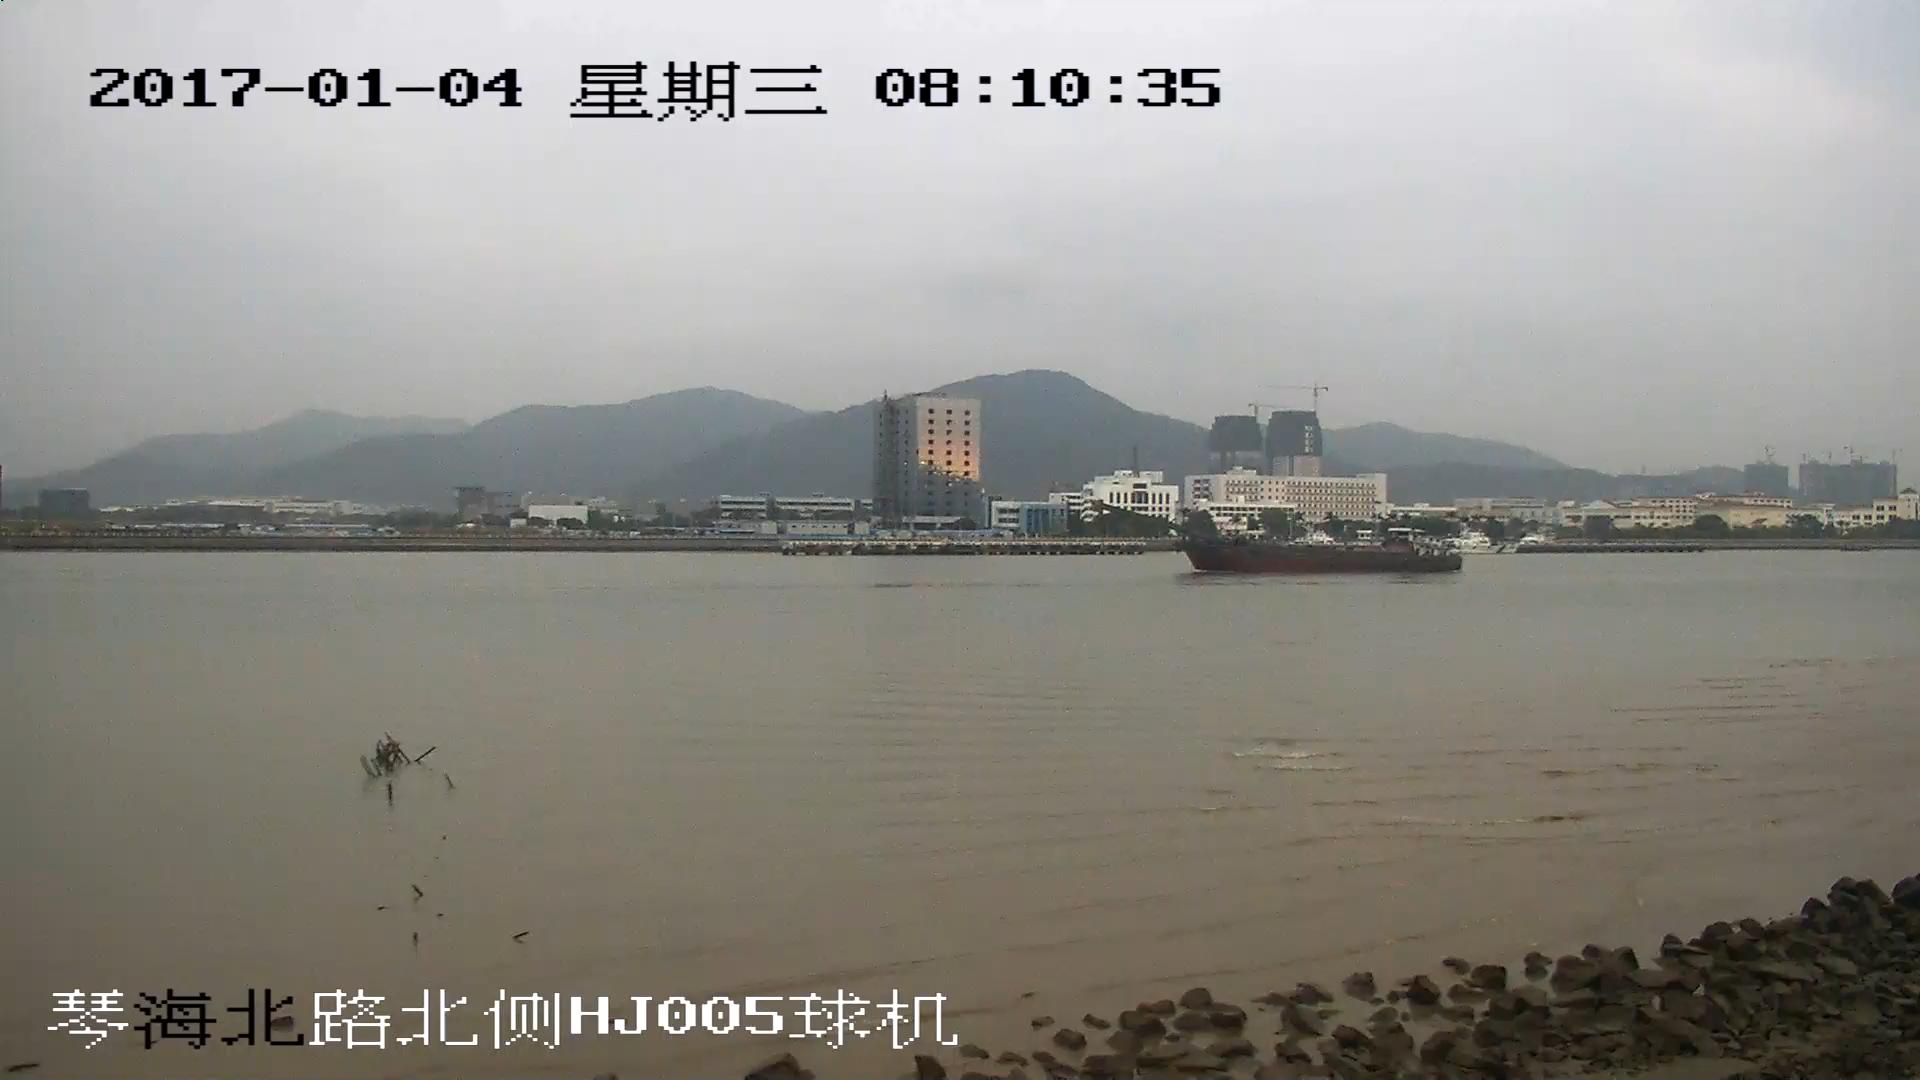bulk cargo carrier: (1096, 500, 1464, 570)
